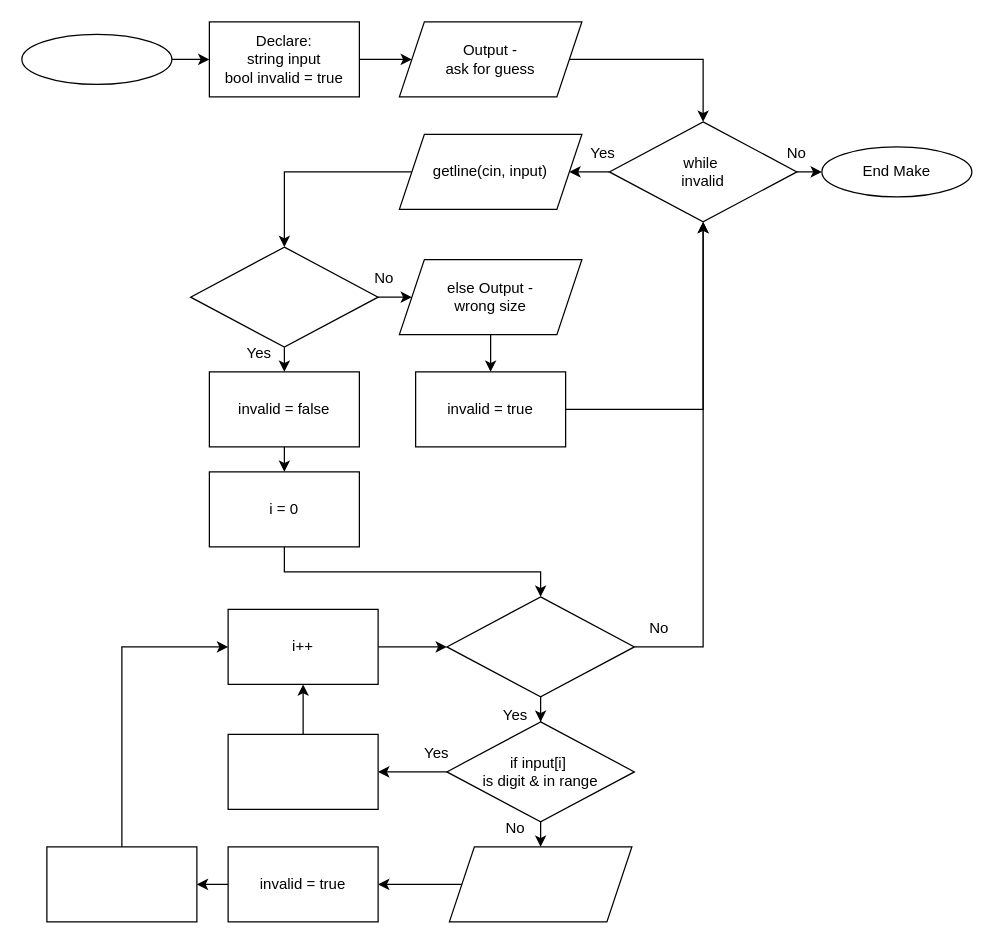
Image size: 994x944. Some labels were removed from this diagram. The shapes that lost their labels are listed below. From the top down, each one's centre as x and y in pixels, then its label:
At point 96,58: "Start Make".
At point 283,296: "if input.length() == size".
At point 540,646: "i < size".
At point 302,771: "guess[i] = input[i] + '0'".
At point 121,884: "i = size".
At point 540,884: "else Output - not in range".
